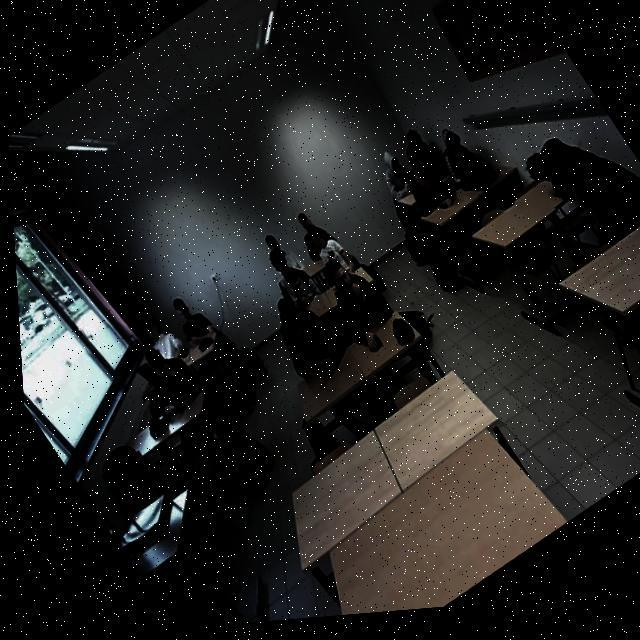daydreaming: (504, 138, 638, 289)
phone_use: (277, 297, 350, 378), (138, 348, 201, 437), (153, 297, 214, 363), (402, 129, 452, 206), (264, 234, 317, 306), (392, 158, 454, 216), (442, 129, 497, 188), (383, 151, 414, 205)
